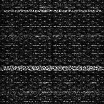lte: (1, 65, 104, 71), (1, 9, 104, 12)
